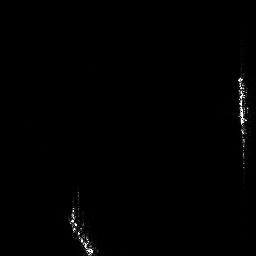ship: (68, 191, 98, 256), (236, 75, 249, 171)
